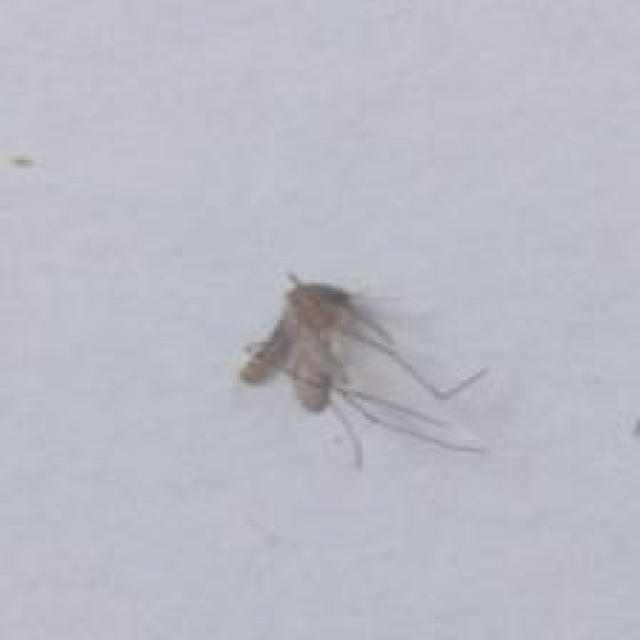Culex: (237, 270, 492, 470)
